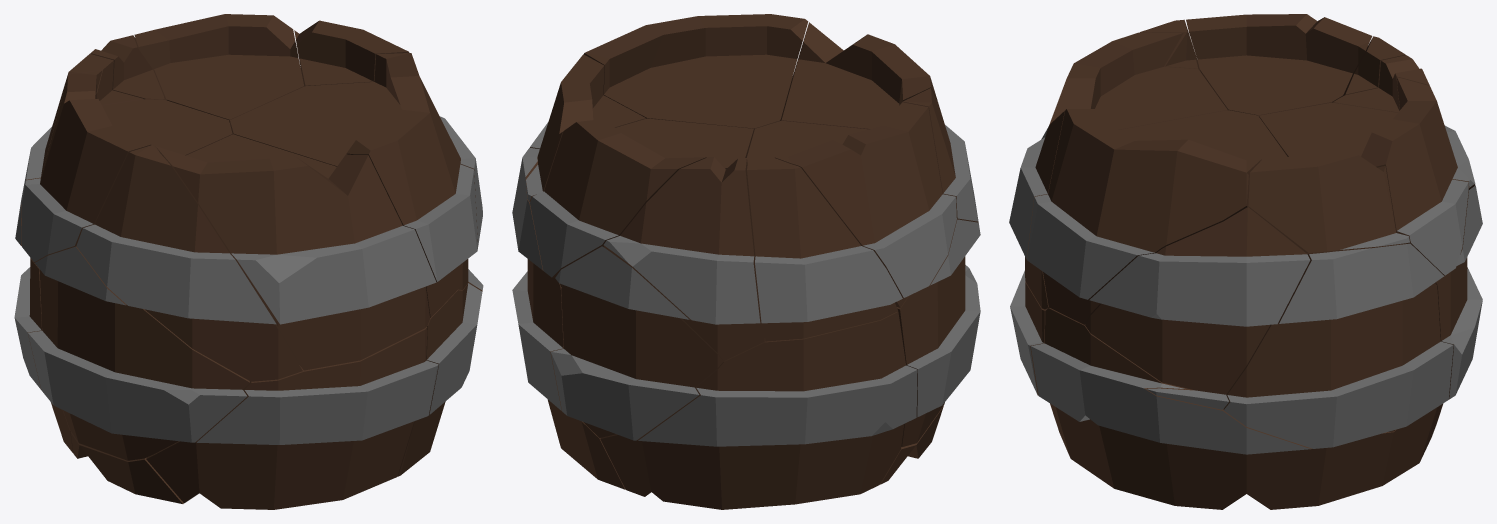
Rendered from Oilbarreldarkbroken.fbx.
3 renders of one model, left to right at view 1: azimuth 30°, elevation 25°; view 2: azimuth 150°, elevation 25°; view 3: azimuth 270°, elevation 25°, orthographic.
Parts seen in each view (by area): view 1: Cylinder_cell.015, Cylinder_cell.009, Cylinder_cell.014, Cylinder_cell.010, Cylinder_cell.005, Cylinder_cell, Cylinder_cell.013, Cylinder_cell.003, Cylinder_cell.001, Cylinder_cell.011, Cylinder_cell.008, Cylinder_cell.012 (+2 smaller); view 2: Cylinder_cell.012, Cylinder_cell.006, Cylinder_cell, Cylinder_cell.005, Cylinder_cell.008, Cylinder_cell.004, Cylinder_cell.013, Cylinder_cell.015, Cylinder_cell.014, Cylinder_cell.007, Cylinder_cell.001, Cylinder_cell.010 (+2 smaller); view 3: Cylinder_cell.003, Cylinder_cell.007, Cylinder_cell.005, Cylinder_cell.002, Cylinder_cell.013, Cylinder_cell.015, Cylinder_cell, Cylinder_cell.001, Cylinder_cell.006, Cylinder_cell.008, Cylinder_cell.009, Cylinder_cell.004 (+1 smaller).
Part boxes in pixels (left/top/right/bottom): Cylinder_cell.015: left=156, top=134, right=436, bottom=370; Cylinder_cell.009: left=146, top=326, right=438, bottom=509; Cylinder_cell.014: left=28, top=246, right=249, bottom=460; Cylinder_cell.010: left=76, top=145, right=302, bottom=381; Cylinder_cell.005: left=230, top=53, right=477, bottom=317; Cylinder_cell: left=21, top=70, right=232, bottom=262; Cylinder_cell.013: left=134, top=14, right=304, bottom=123; Cylinder_cell.003: left=397, top=282, right=482, bottom=476; Cylinder_cell.001: left=294, top=20, right=409, bottom=86; Cylinder_cell.011: left=70, top=432, right=183, bottom=503; Cylinder_cell.008: left=90, top=35, right=166, bottom=100; Cylinder_cell.012: left=14, top=258, right=73, bottom=453; Cylinder_cell.012: left=600, top=311, right=917, bottom=509; Cylinder_cell.006: left=551, top=246, right=723, bottom=440; Cylinder_cell: left=747, top=102, right=956, bottom=307; Cylinder_cell.005: left=584, top=14, right=808, bottom=132; Cylinder_cell.008: left=603, top=157, right=764, bottom=360; Cylinder_cell.004: left=747, top=157, right=902, bottom=341; Cylinder_cell.013: left=530, top=118, right=753, bottom=287; Cylinder_cell.015: left=780, top=22, right=937, bottom=129; Cylinder_cell.014: left=897, top=219, right=980, bottom=446; Cylinder_cell.007: left=512, top=147, right=563, bottom=410; Cylinder_cell.001: left=526, top=54, right=645, bottom=201; Cylinder_cell.010: left=903, top=88, right=978, bottom=223; Cylinder_cell.003: left=1030, top=308, right=1438, bottom=509; Cylinder_cell.007: left=1223, top=243, right=1453, bottom=448; Cylinder_cell.005: left=1027, top=109, right=1287, bottom=324; Cylinder_cell.002: left=1085, top=207, right=1310, bottom=409; Cylinder_cell.013: left=1259, top=77, right=1468, bottom=284; Cylinder_cell.015: left=1009, top=32, right=1227, bottom=309; Cylinder_cell: left=1186, top=14, right=1372, bottom=116; Cylinder_cell.001: left=1248, top=146, right=1409, bottom=252; Cylinder_cell.006: left=1437, top=185, right=1482, bottom=399; Cylinder_cell.008: left=1333, top=55, right=1475, bottom=190; Cylinder_cell.009: left=1010, top=270, right=1069, bottom=455; Cylinder_cell.004: left=1342, top=36, right=1405, bottom=96.
Size of the model in its own units: 85.62 by 69.51 by 85.76.
